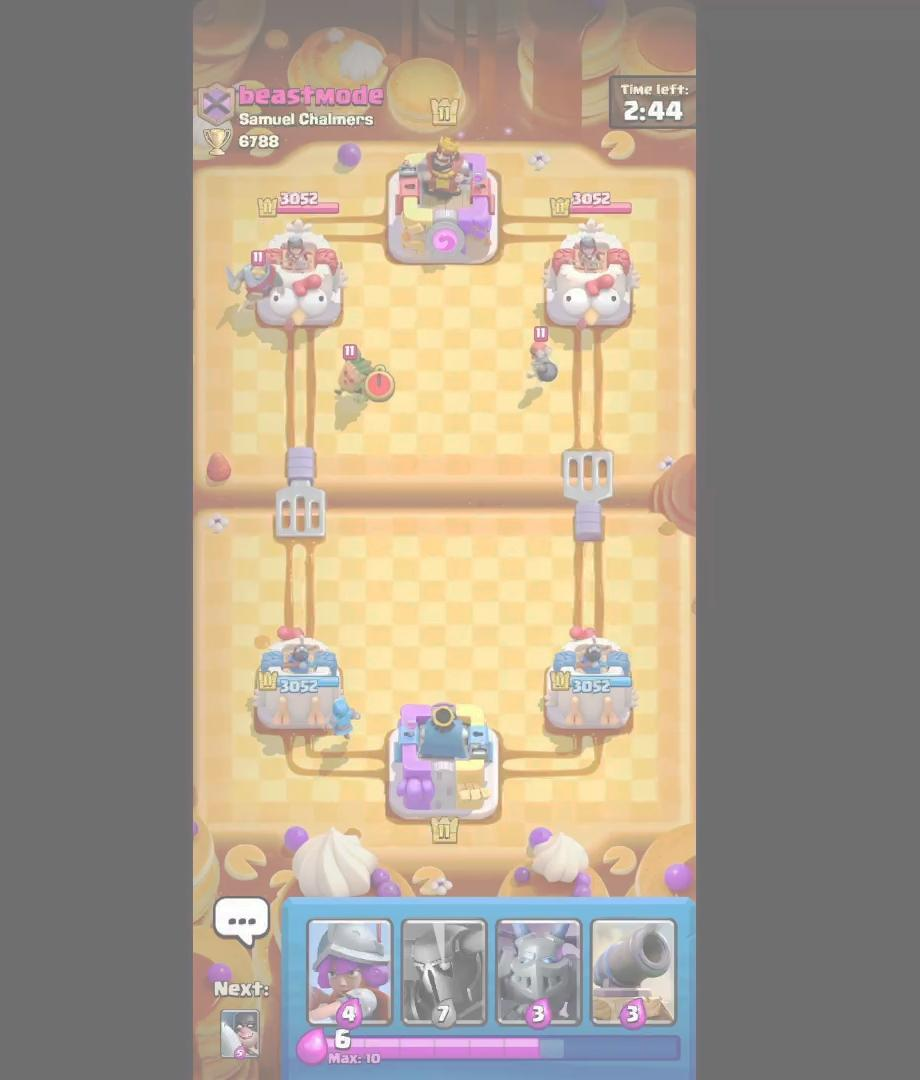Bomber: (525, 324, 564, 394)
Dart Goblin: (332, 341, 387, 409)
Knight: (222, 243, 287, 309)
